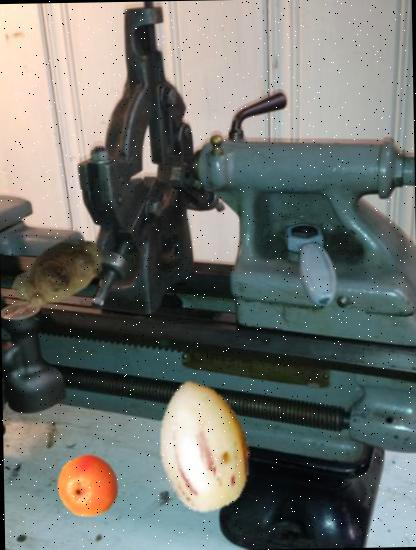Ginger: (8, 222, 109, 324)
Grapefruit: (56, 453, 120, 518)
Pepino: (137, 378, 274, 515)
